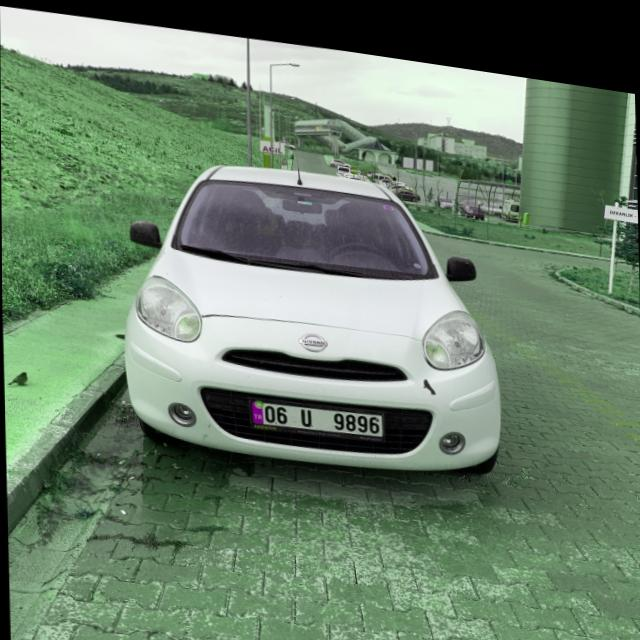license_plate: (249, 388, 382, 429)
